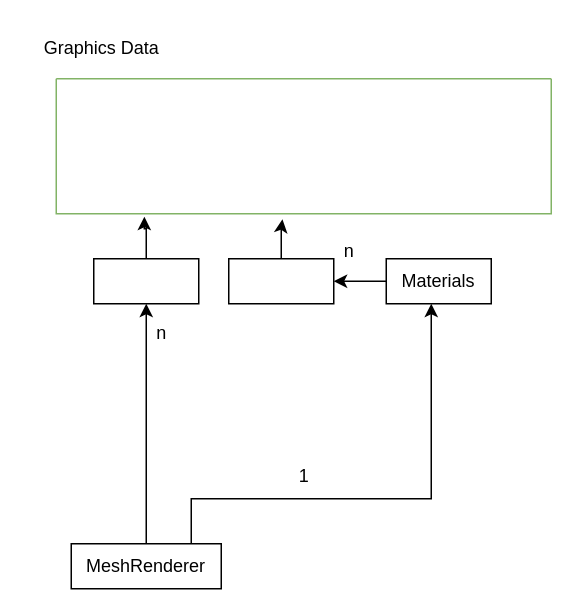
This 578x615 diagram has some shape labels left out. The shapes that lost their labels are listed below. From the top down, each one's centre as x and y in pixels, then its label:
the point at 145,280: Meshes
the point at 280,280: Textures
